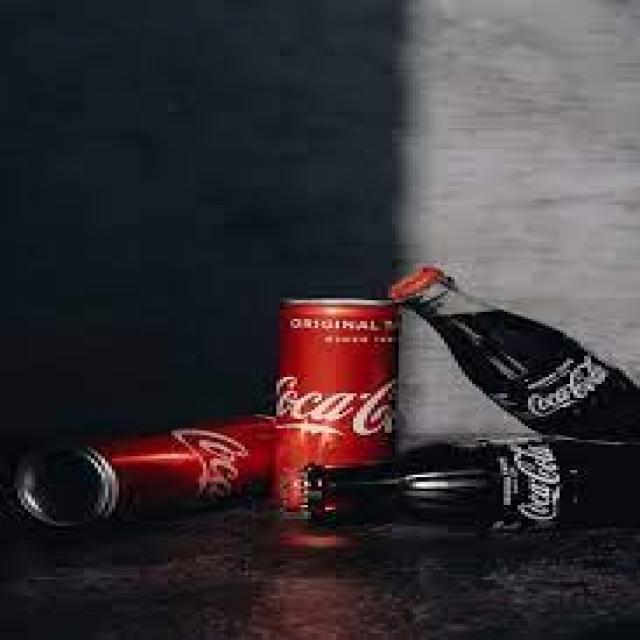Cans: (255, 284, 413, 524), (14, 410, 276, 542)
